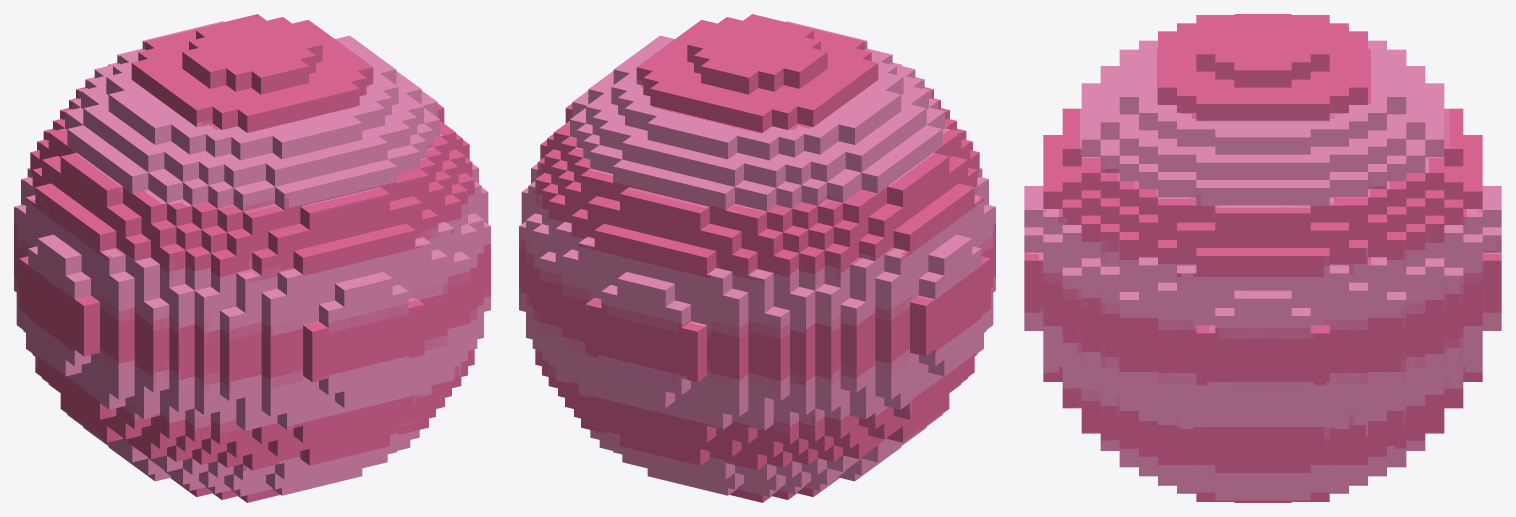
The model's file is phase.glb.
3 views of the same model, side by side, from view 1: azimuth 30°, elevation 25°; view 2: azimuth 150°, elevation 25°; view 3: azimuth 270°, elevation 25° (orthographic). The views are drawn at different scales.
Visible parts, largest first — view 1: PhasingBall_01.001; view 2: PhasingBall_01.001; view 3: PhasingBall_01.001.
Part boxes in pixels (box(x1,y1,x2,y2)): PhasingBall_01.001: box(14, 14, 490, 502); PhasingBall_01.001: box(519, 14, 995, 502); PhasingBall_01.001: box(1024, 14, 1501, 502).
Size of the model in its own units: 2.5 by 2.5 by 2.5.
Materials: 1 (1 with a texture image).
